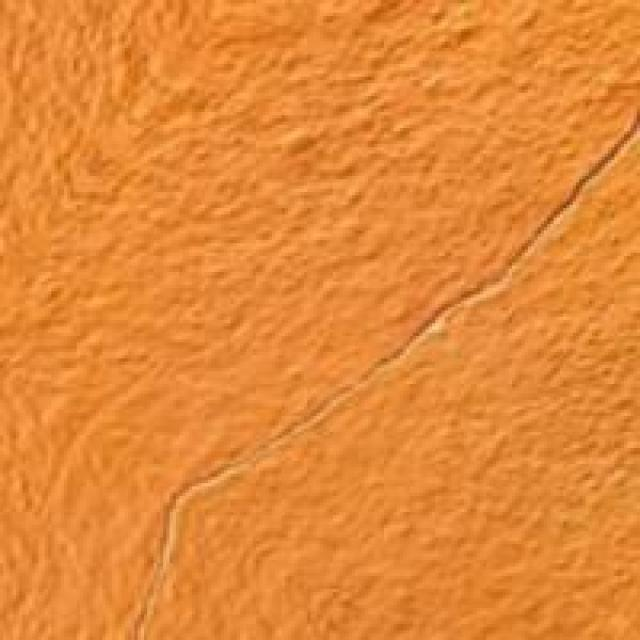Crack: (157, 93, 637, 551)
